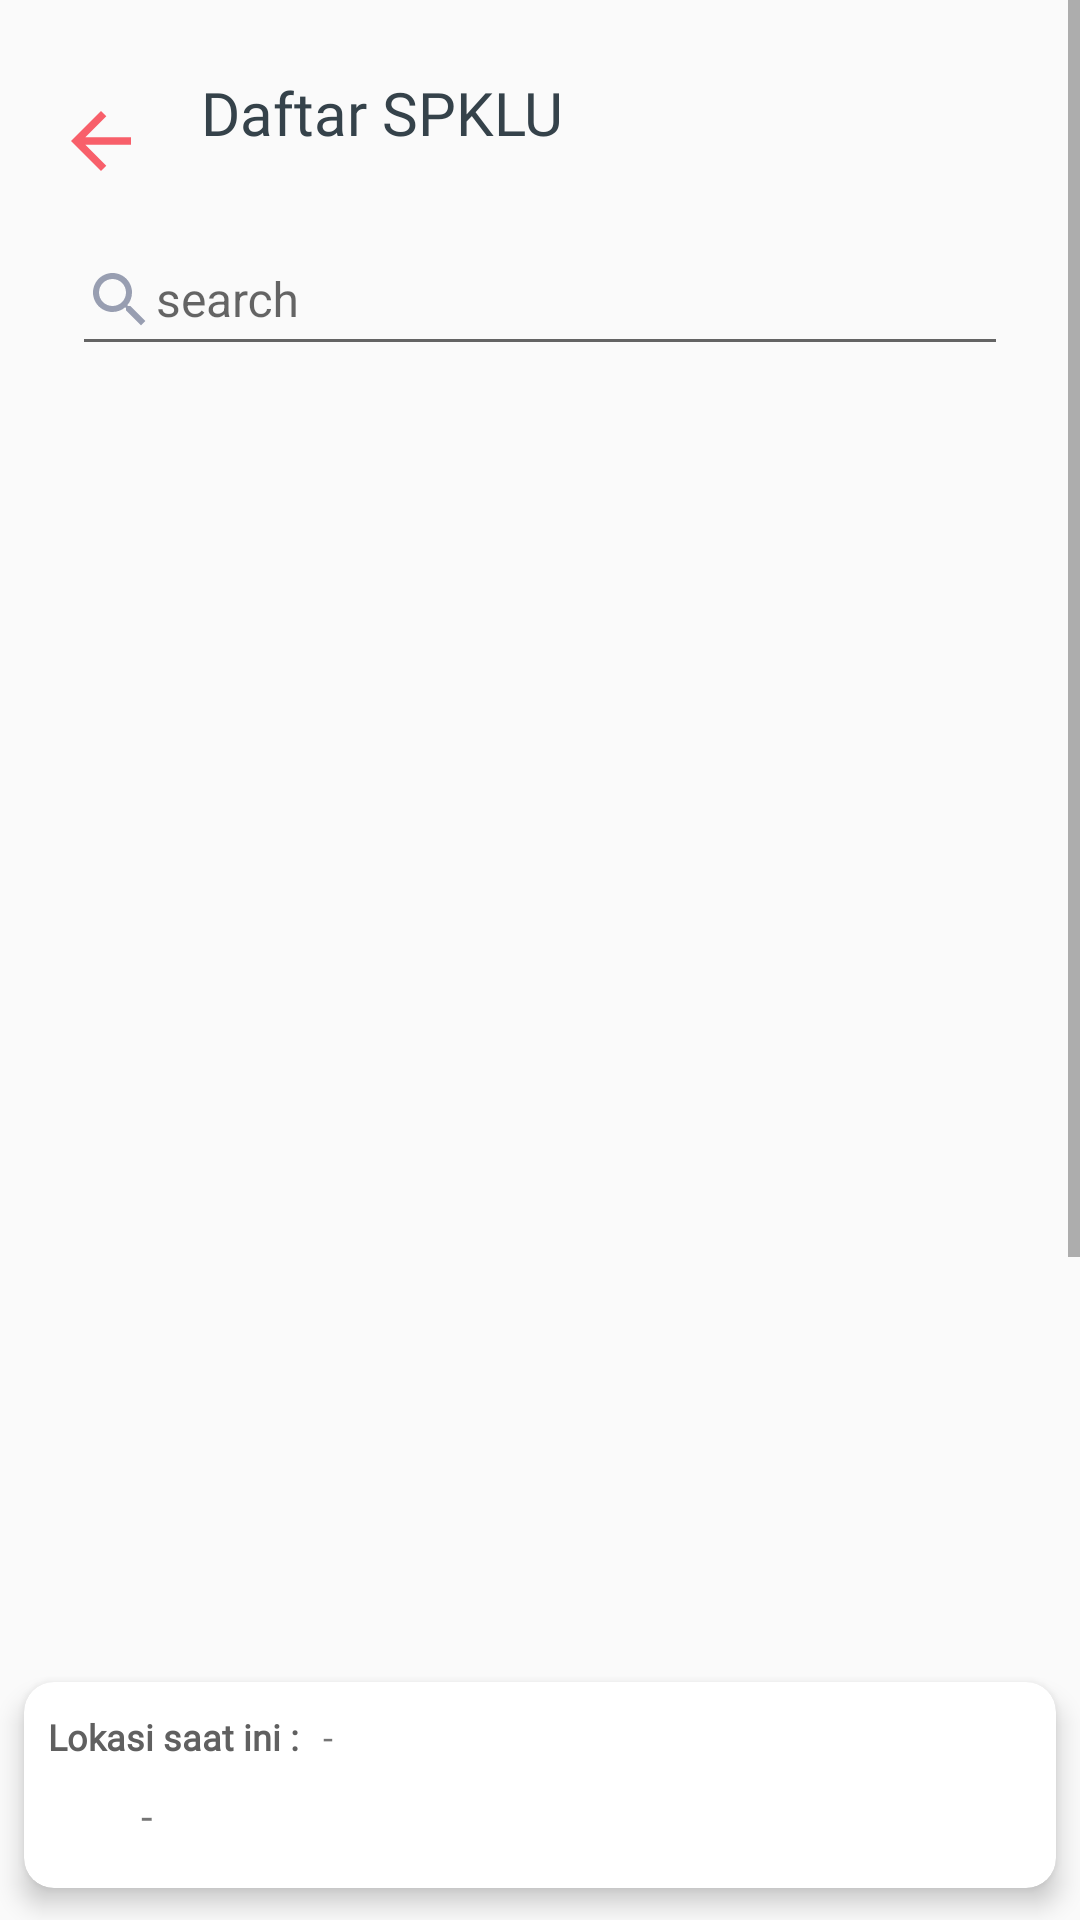

Where to tap for icons on this 1080x1920 app screen, as point (x, y):
arrow back: point (101, 141)
